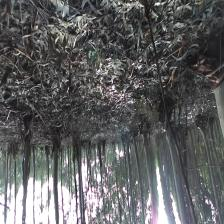trunk: (165, 127, 188, 220), (143, 132, 157, 216), (22, 132, 32, 220), (132, 134, 143, 200), (52, 142, 60, 221)
